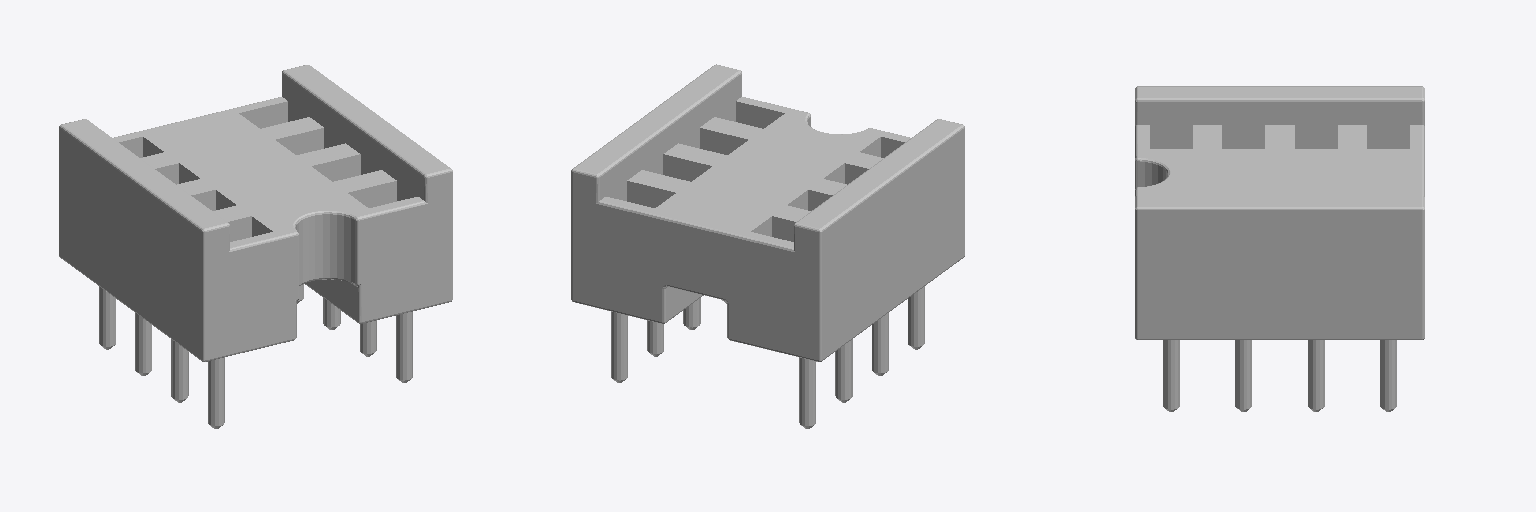
Rendered from IC_Sockel_8P.obj.
The picture shows the model from 3 angles: view 1: azimuth 30°, elevation 25°; view 2: azimuth 150°, elevation 25°; view 3: azimuth 270°, elevation 25°; orthographic projection.
Visible parts, largest first — view 1: Volumenkörper1; view 2: Volumenkörper1; view 3: Volumenkörper1.
Part boxes in pixels (left/top/right/bottom): Volumenkörper1: left=59, top=65, right=452, bottom=428; Volumenkörper1: left=571, top=64, right=964, bottom=428; Volumenkörper1: left=1135, top=86, right=1424, bottom=411.
Bounding box in the file's own units: 10.16 × 8.46 × 10.16.